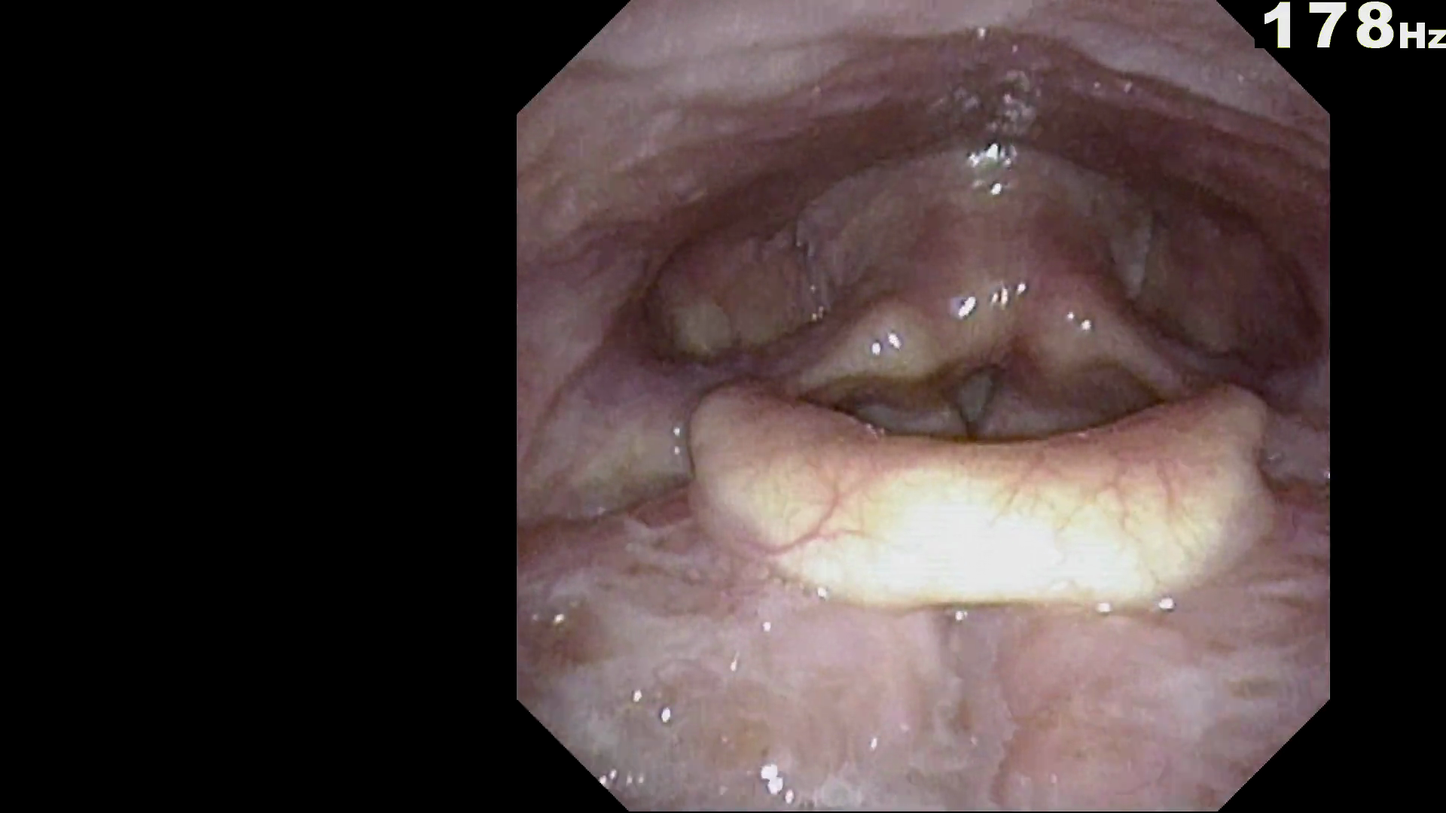epiglottis: (684, 352, 1285, 632)
trachea: (919, 328, 1026, 459)
